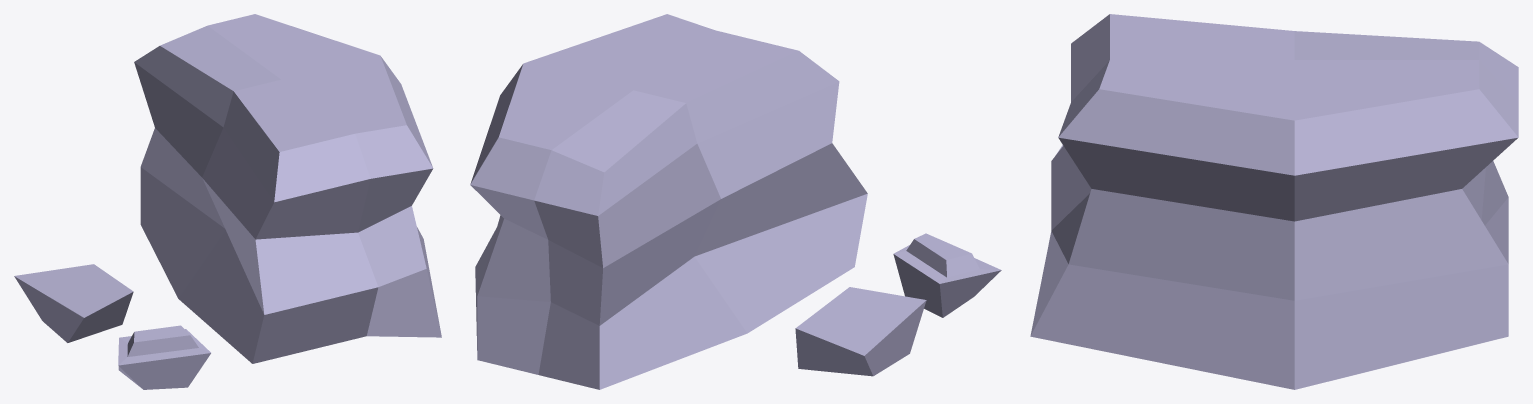
Rendered from Rock3.fbx.
3 views of the same model, side by side, from view 1: azimuth 30°, elevation 25°; view 2: azimuth 150°, elevation 25°; view 3: azimuth 270°, elevation 25° (orthographic). The views are drawn at different scales.
Visible parts, largest first — view 1: ROCK3; view 2: ROCK3; view 3: ROCK3.
Boxes of the visible parts, left/top/right/bottom form: ROCK3: left=14, top=14, right=441, bottom=389; ROCK3: left=470, top=14, right=1001, bottom=389; ROCK3: left=1030, top=14, right=1518, bottom=389.
Bounding box in the file's own units: 354 × 168 × 307.
